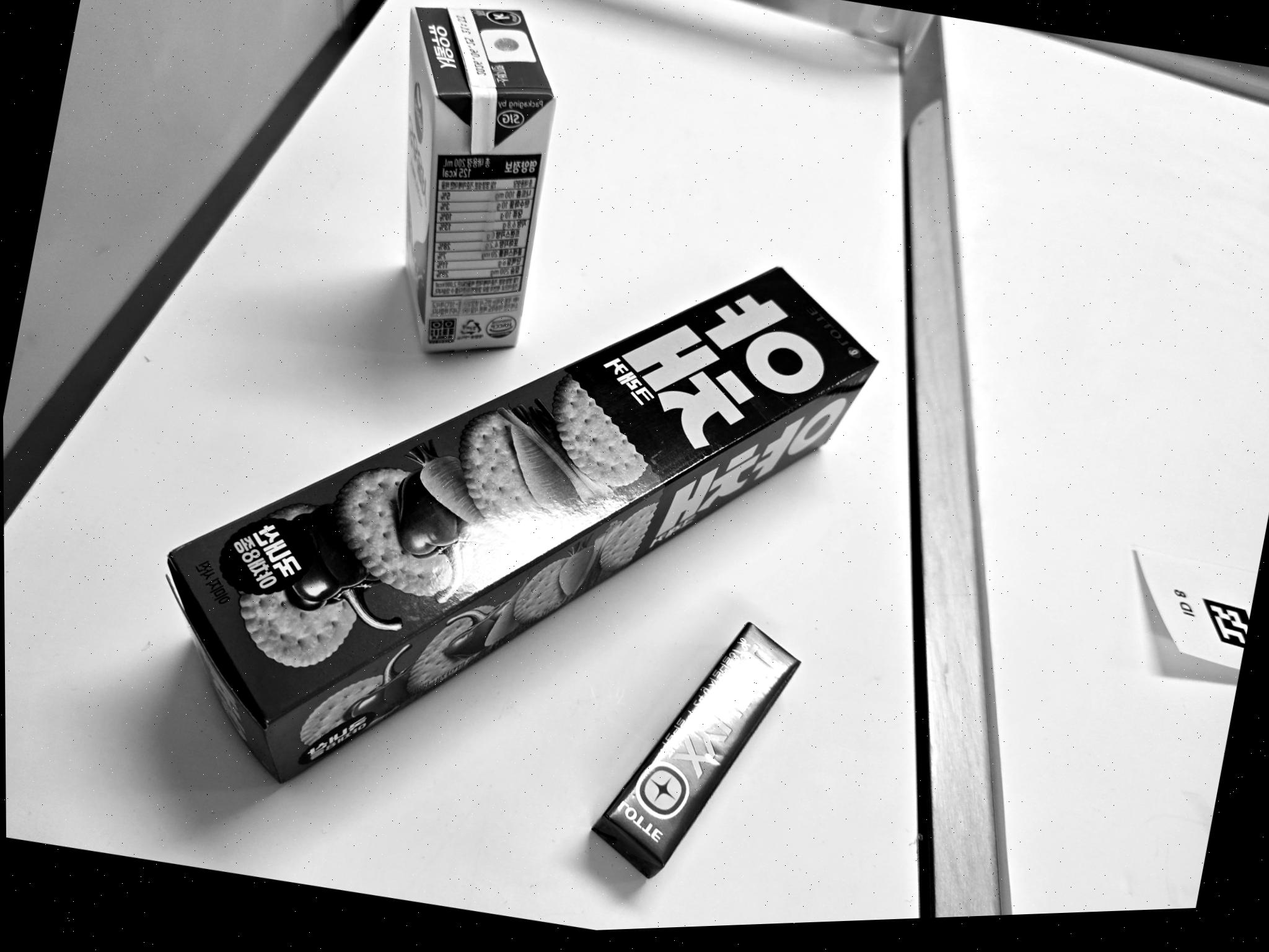cracker_vege: (166, 265, 878, 783)
gum_green: (593, 624, 799, 878)
milk_green: (405, 7, 555, 351)
